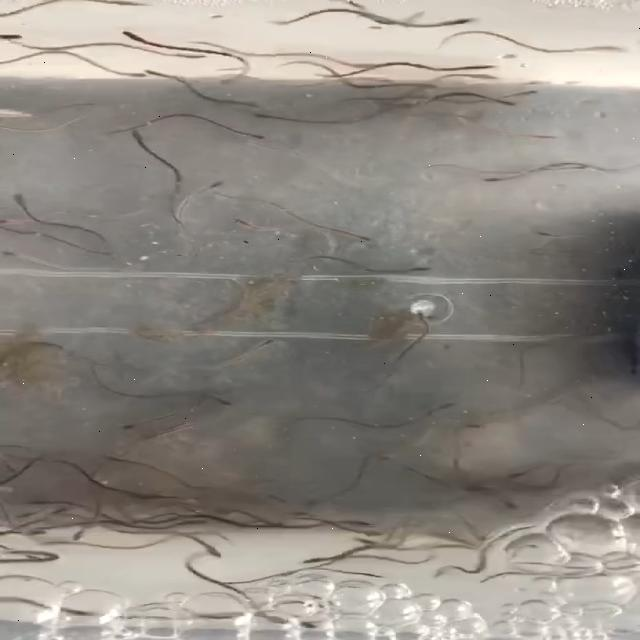active_glass_eel: (562, 38, 634, 66), (442, 50, 506, 80), (434, 13, 488, 38), (116, 124, 163, 150), (268, 501, 316, 523), (234, 126, 282, 146), (336, 512, 384, 532), (239, 614, 297, 630), (85, 66, 142, 82), (162, 50, 216, 66), (503, 361, 557, 377), (488, 464, 535, 482), (458, 71, 508, 87), (482, 497, 524, 516), (12, 522, 56, 540), (19, 550, 62, 568), (294, 550, 342, 566), (184, 517, 220, 538), (114, 30, 163, 45), (434, 399, 472, 418), (400, 310, 444, 326), (242, 336, 280, 354), (116, 420, 150, 440), (89, 456, 134, 471), (199, 176, 241, 192), (393, 8, 441, 22), (6, 188, 44, 205), (350, 224, 378, 247), (148, 68, 180, 88), (396, 260, 431, 278), (476, 169, 512, 186), (32, 340, 66, 358), (197, 395, 239, 409), (298, 616, 334, 632), (164, 421, 204, 435), (354, 567, 389, 583), (603, 368, 640, 383), (132, 489, 166, 505), (426, 565, 456, 583), (482, 96, 525, 108), (4, 250, 36, 266), (59, 606, 101, 618), (521, 134, 563, 146), (463, 531, 505, 543), (493, 89, 543, 99), (0, 32, 35, 46), (17, 496, 49, 511), (66, 528, 96, 544), (559, 164, 605, 174), (346, 536, 381, 548), (363, 528, 398, 540), (66, 115, 111, 124), (227, 214, 255, 228), (72, 98, 110, 108), (199, 548, 231, 559), (0, 214, 20, 229), (464, 422, 488, 432), (474, 575, 498, 585)
